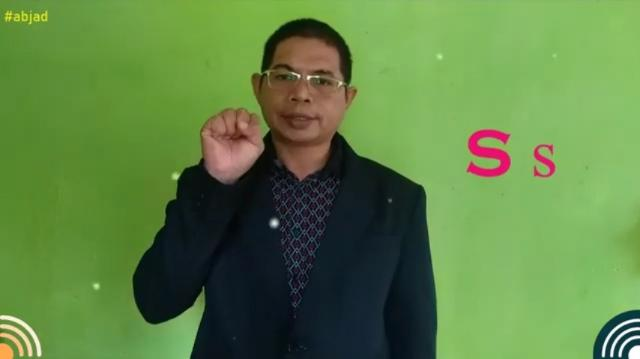S: (199, 106, 267, 176)
